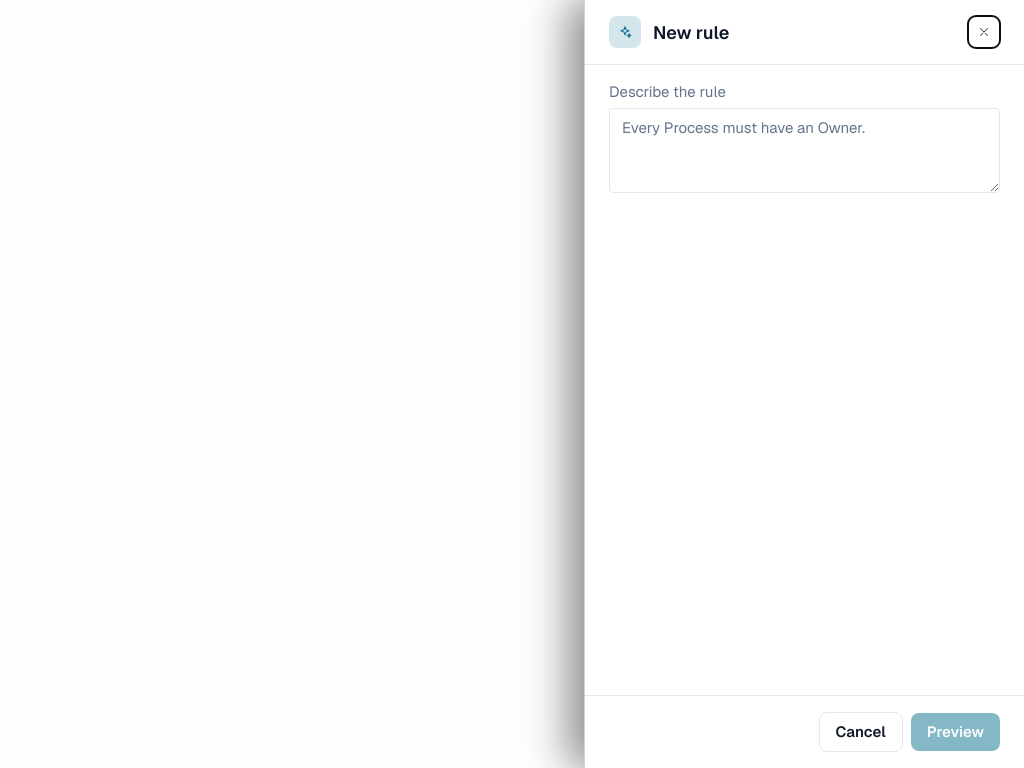
Test: NlRuleDrawer › surfaces a 422 invalid_shape commit error inline
In the text box labelled "Describe the rule": (804, 150) x1=609 y1=108 x2=1000 y2=193, type "Every Foo must have a bar."
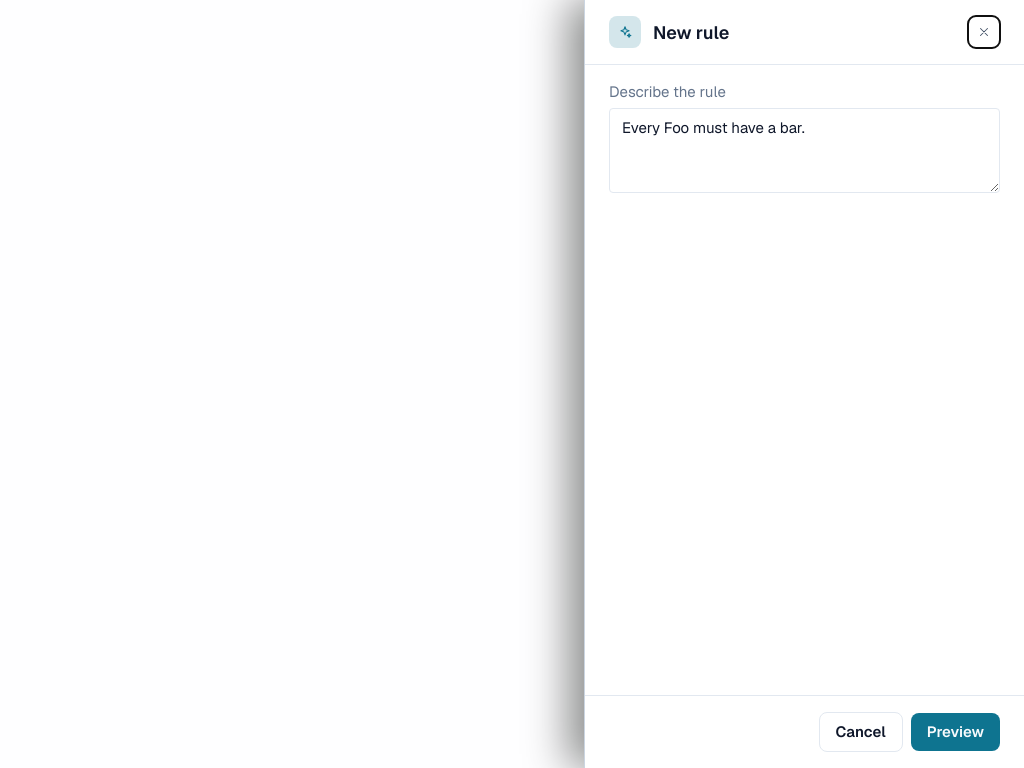
Click the button "Preview": (955, 732) x1=911 y1=712 x2=1000 y2=751
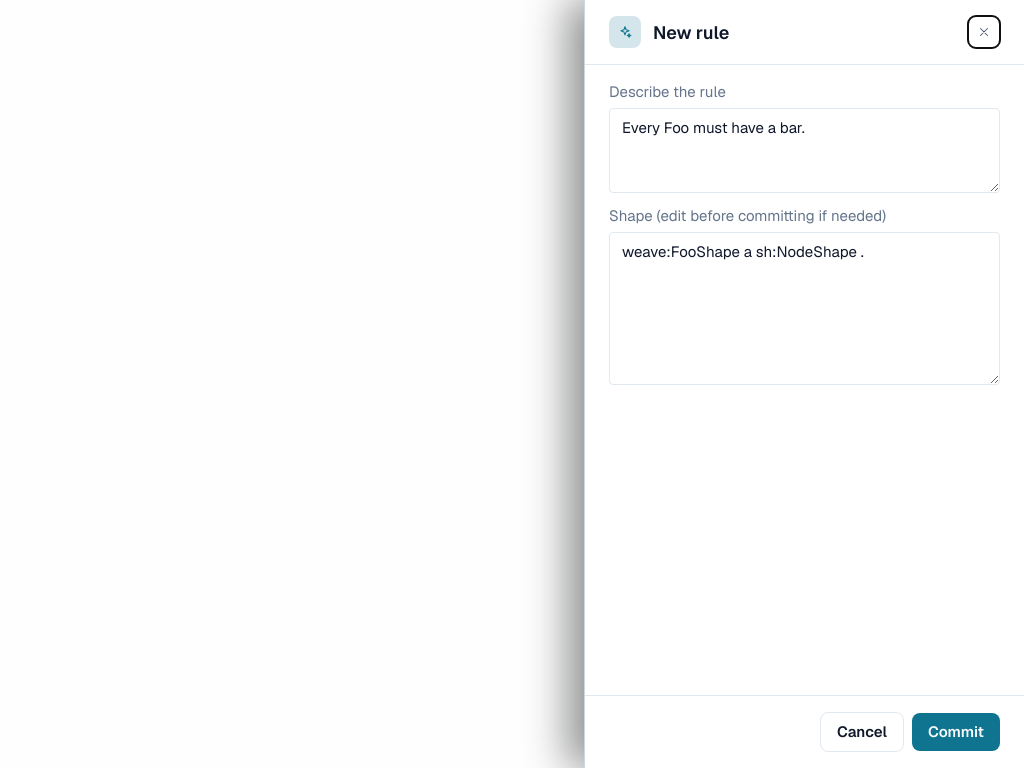
Now the text box showing "weave:FooShape a sh:NodeShape ." is shown, box x1=609 y1=232 x2=1000 y2=384
Click the button "Commit": (956, 732) x1=912 y1=712 x2=1000 y2=751
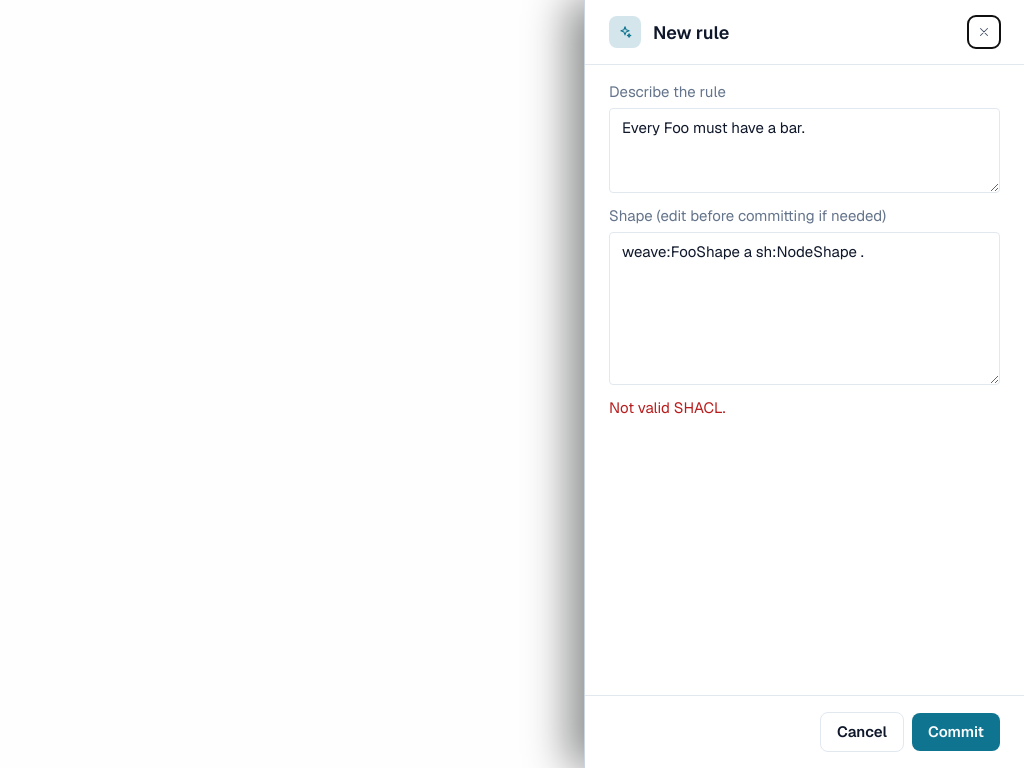
Now the text "Not valid SHACL." is shown, box x1=609 y1=398 x2=726 y2=416
